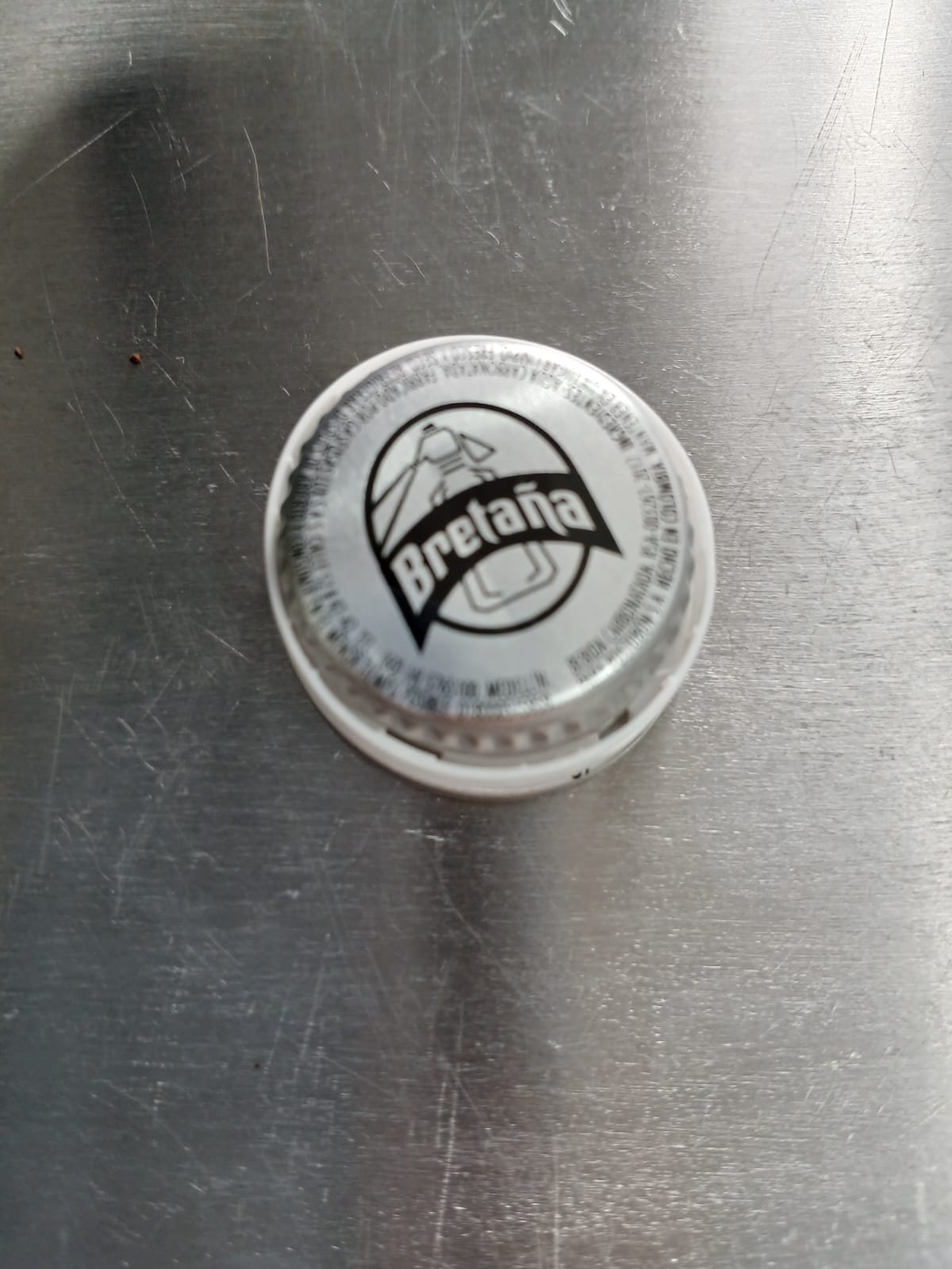Metal: (264, 333, 722, 798)
